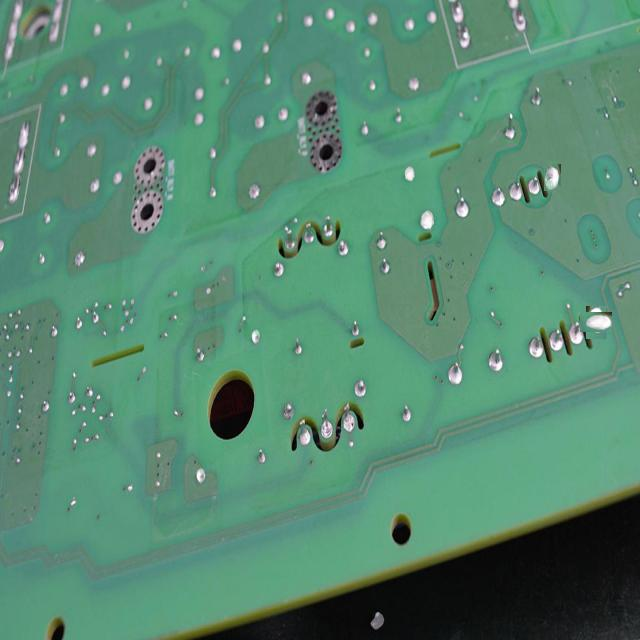slug: (583, 309, 609, 336), (543, 164, 561, 192)
